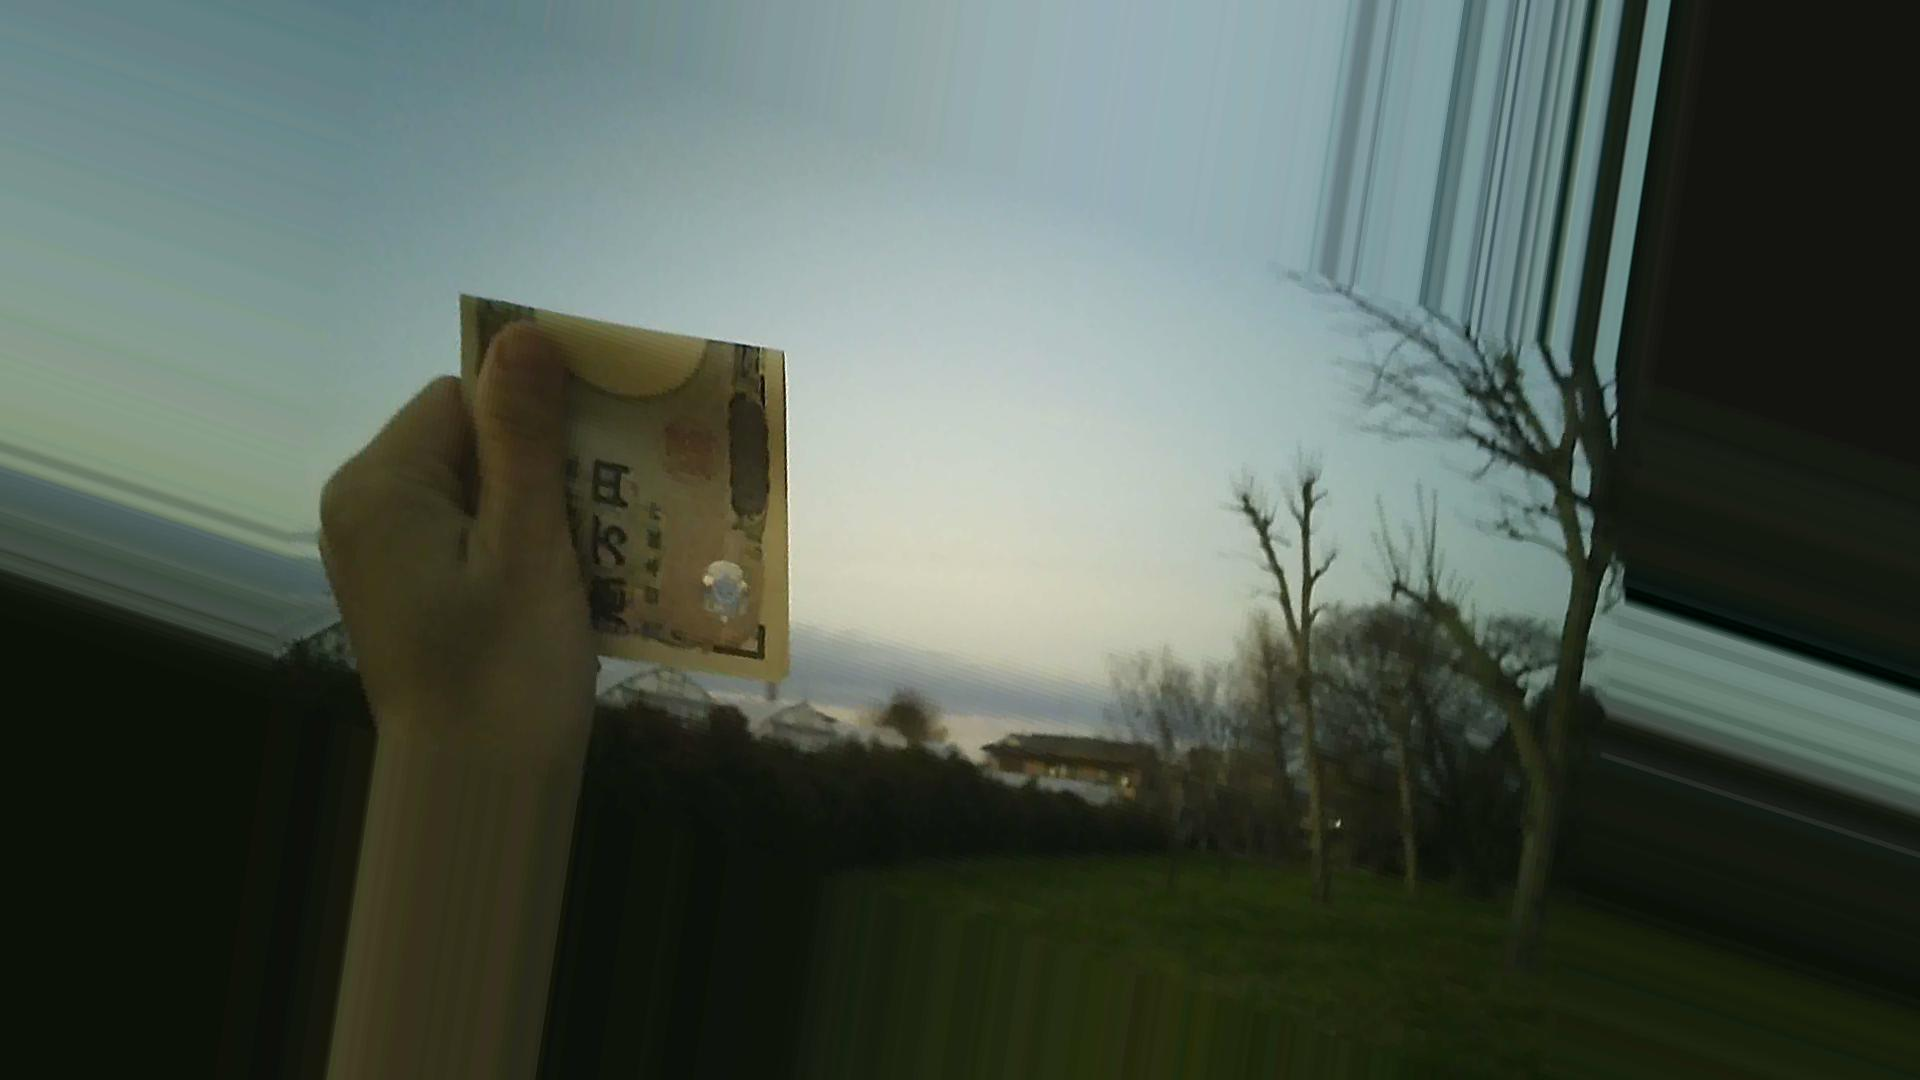10,000 Yen: (439, 274, 829, 712)
